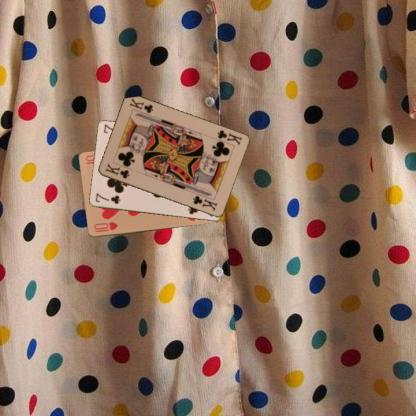10h: (91, 219, 119, 234)
7c: (92, 191, 121, 205)
Kc: (103, 160, 130, 180), (214, 128, 243, 146)
